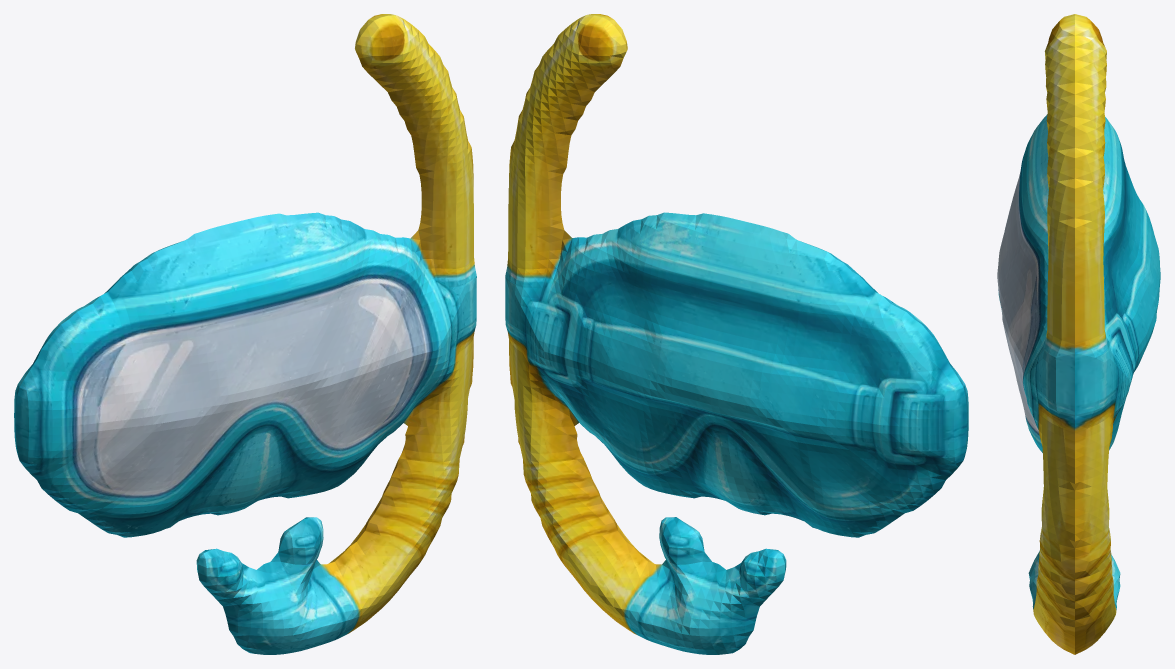
File: snorkel_mask.glb
3 views of the same model, side by side, from view 1: azimuth 30°, elevation 25°; view 2: azimuth 150°, elevation 25°; view 3: azimuth 270°, elevation 25° (orthographic). The views are drawn at different scales.
Parts seen in each view (by area): view 1: geometry_0; view 2: geometry_0; view 3: geometry_0.
Part boxes in pixels (x1,y1,x2,y2): geometry_0: (14, 14, 476, 654); geometry_0: (505, 14, 968, 654); geometry_0: (997, 14, 1160, 654).
Bounding box in the file's own units: 0.7713 × 0.9779 × 0.2204.
Materials: 1 (1 with a texture image).
